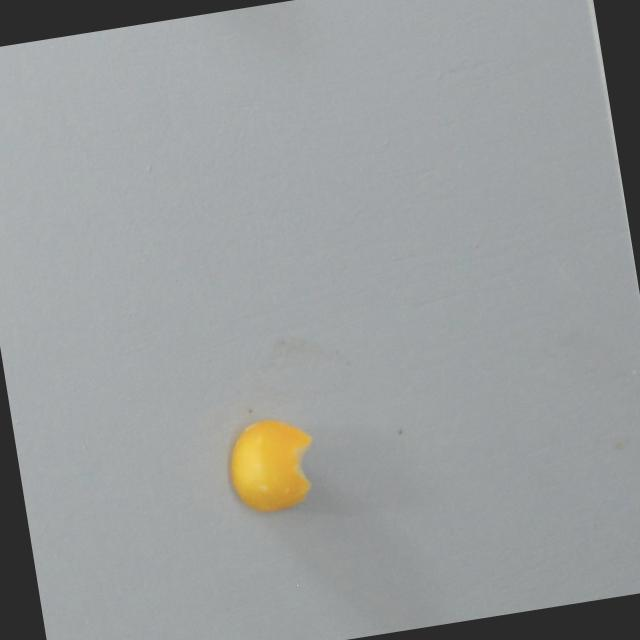no_canjicado: (222, 413, 324, 516)
